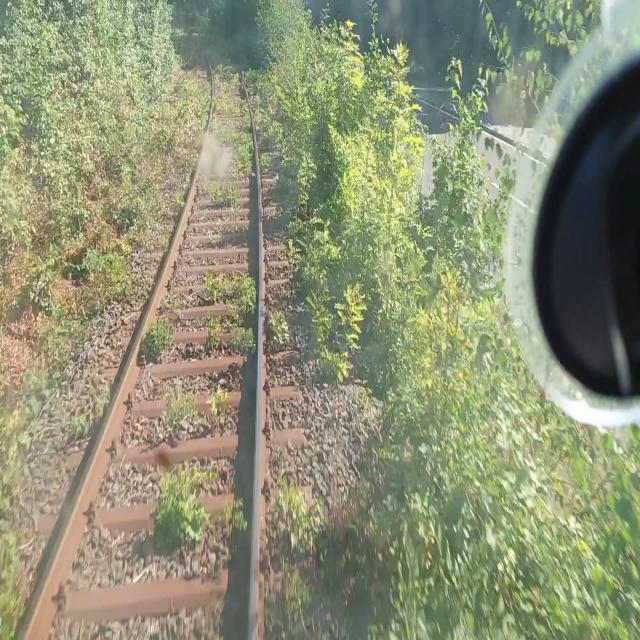Plant: (324, 453, 419, 639), (244, 66, 308, 207), (158, 55, 212, 190), (155, 460, 211, 555), (306, 284, 351, 378), (271, 479, 321, 552), (286, 213, 332, 285), (211, 62, 251, 132), (225, 268, 256, 354), (131, 185, 171, 251), (215, 120, 254, 178), (0, 527, 20, 639), (279, 560, 314, 622), (161, 386, 198, 437), (141, 320, 171, 363), (220, 488, 248, 529), (106, 263, 131, 302), (334, 301, 353, 352), (203, 265, 228, 302), (204, 306, 222, 349), (267, 309, 288, 343), (211, 389, 229, 426), (222, 180, 238, 219), (161, 287, 179, 314), (93, 388, 106, 419), (74, 408, 85, 435), (209, 180, 221, 201), (171, 189, 184, 207)
